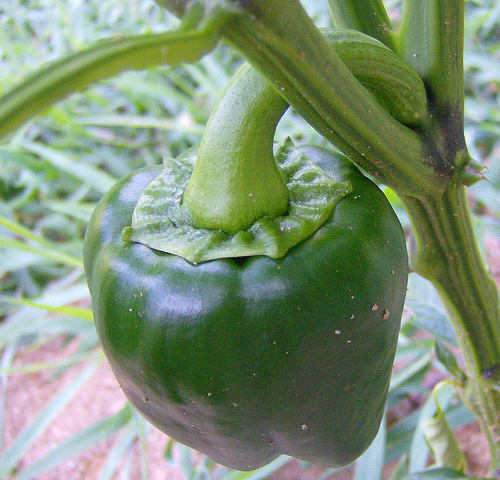capsicum: (79, 140, 414, 476)
